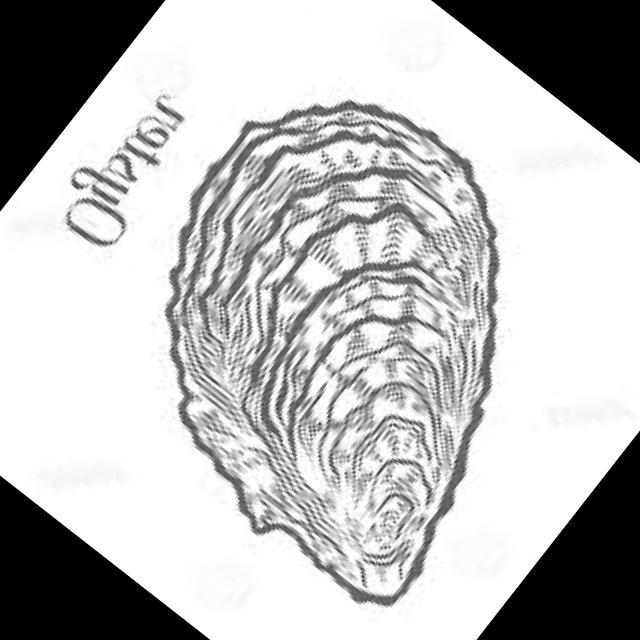Oyster- Indeterminate: (164, 100, 499, 608)
